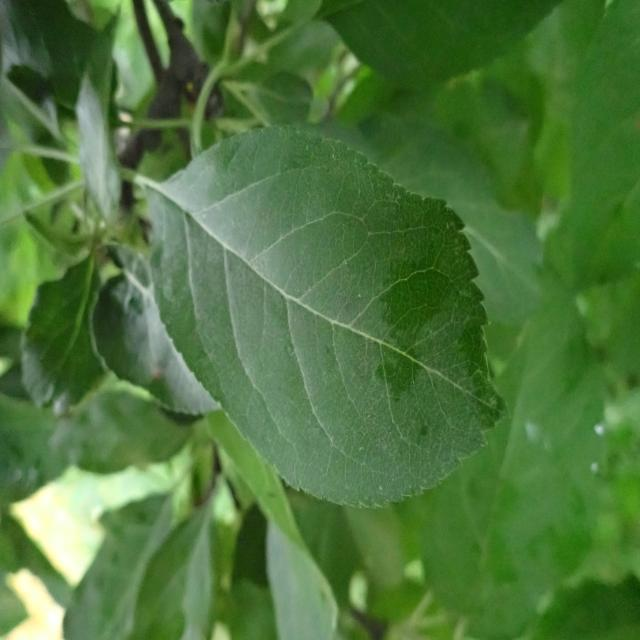healthy: (150, 121, 508, 509), (314, 1, 562, 88)
